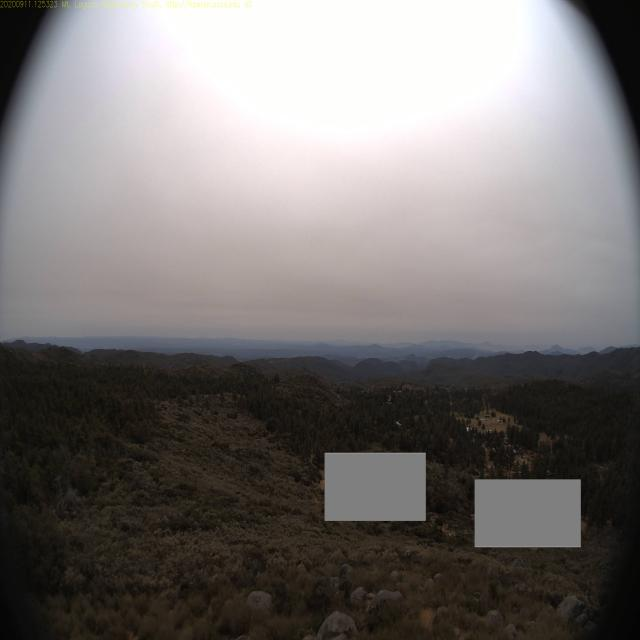smoke: (471, 350, 485, 362)
